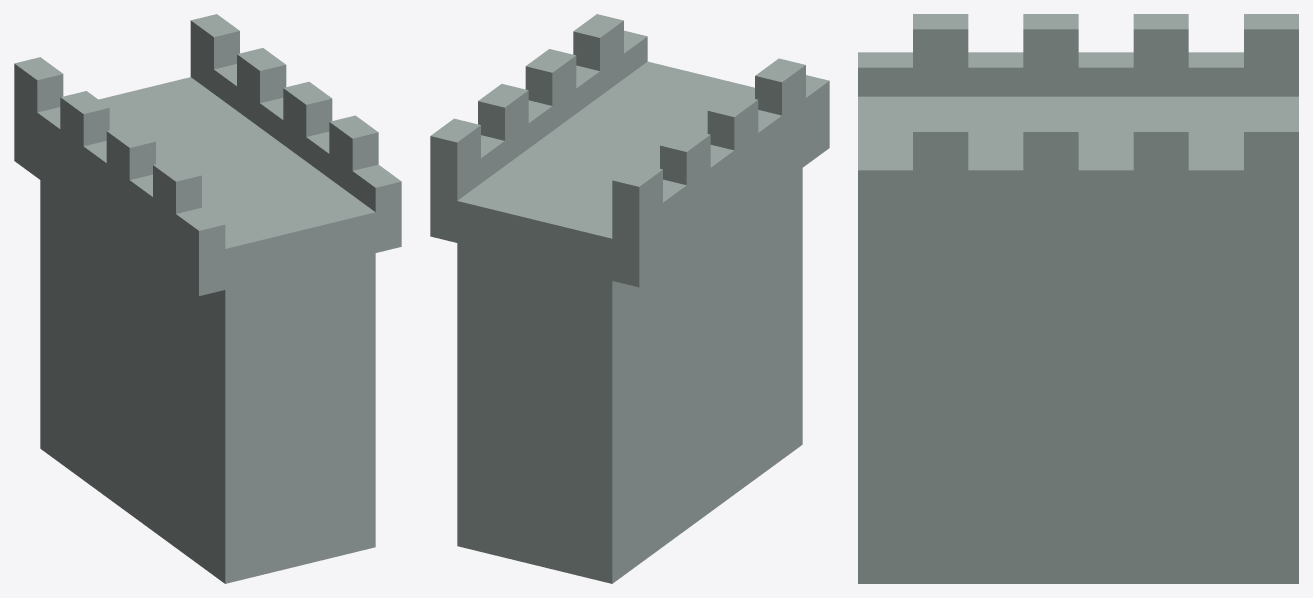
File: Wall.fbx
The picture shows the model from 3 angles, left to right: view 1: azimuth 30°, elevation 25°; view 2: azimuth 150°, elevation 25°; view 3: azimuth 270°, elevation 25°; orthographic projection. The views are drawn at different scales.
Visible parts, largest first — view 1: Cube; view 2: Cube; view 3: Cube.
Part boxes in pixels (bbox=[...]): Cube: bbox=[14, 14, 401, 583]; Cube: bbox=[430, 14, 829, 583]; Cube: bbox=[858, 14, 1298, 583].
Bounding box in the file's own units: 131 × 242 × 207.
